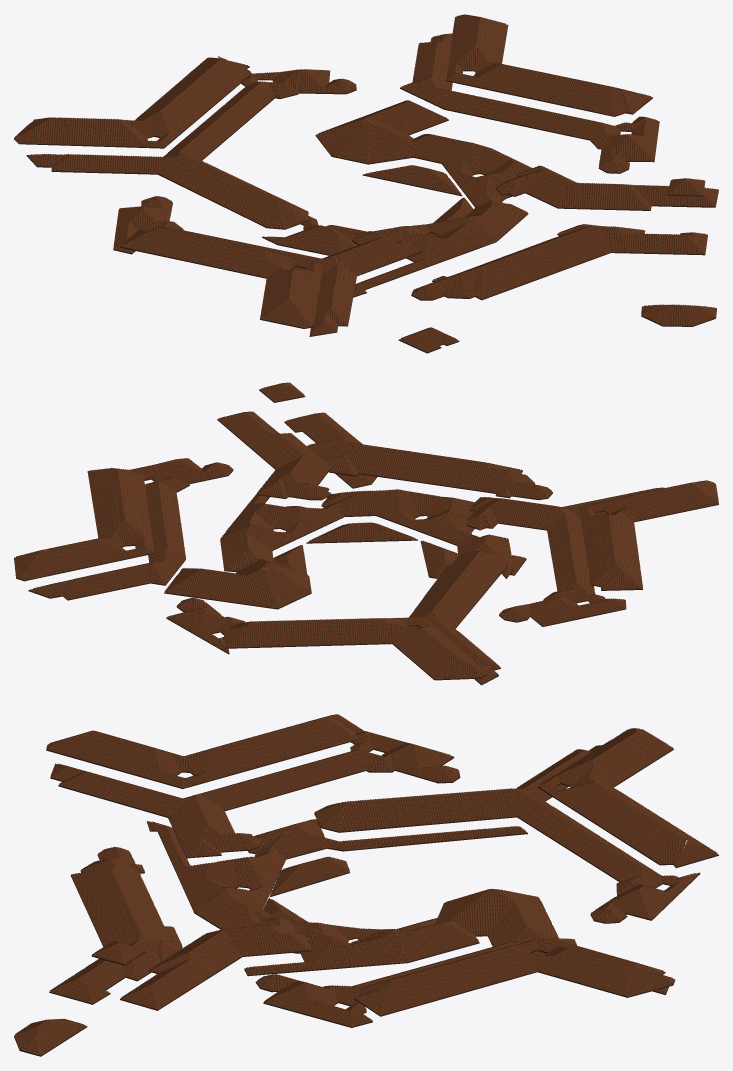
Rendered from hotel_cubiertas.glb.
3 views of the same model, one above another, from view 1: azimuth 30°, elevation 25°; view 2: azimuth 150°, elevation 25°; view 3: azimuth 270°, elevation 25° (orthographic). The views are drawn at different scales.
Visible parts, largest first — view 1: Cubierta_Hotel; view 2: Cubierta_Hotel; view 3: Cubierta_Hotel.
Boxes of the visible parts, box(x1,y1,x2,y2) form: Cubierta_Hotel: box(14, 14, 718, 353); Cubierta_Hotel: box(14, 382, 718, 685); Cubierta_Hotel: box(14, 714, 718, 1056).
Bounding box in the file's own units: 130 × 26.11 × 129.
Materials: 2 (2 with a texture image).
